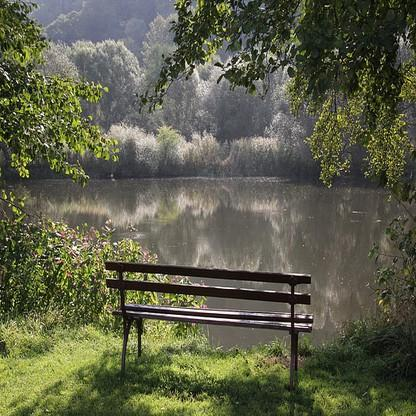obstacle: (93, 232, 325, 398)
